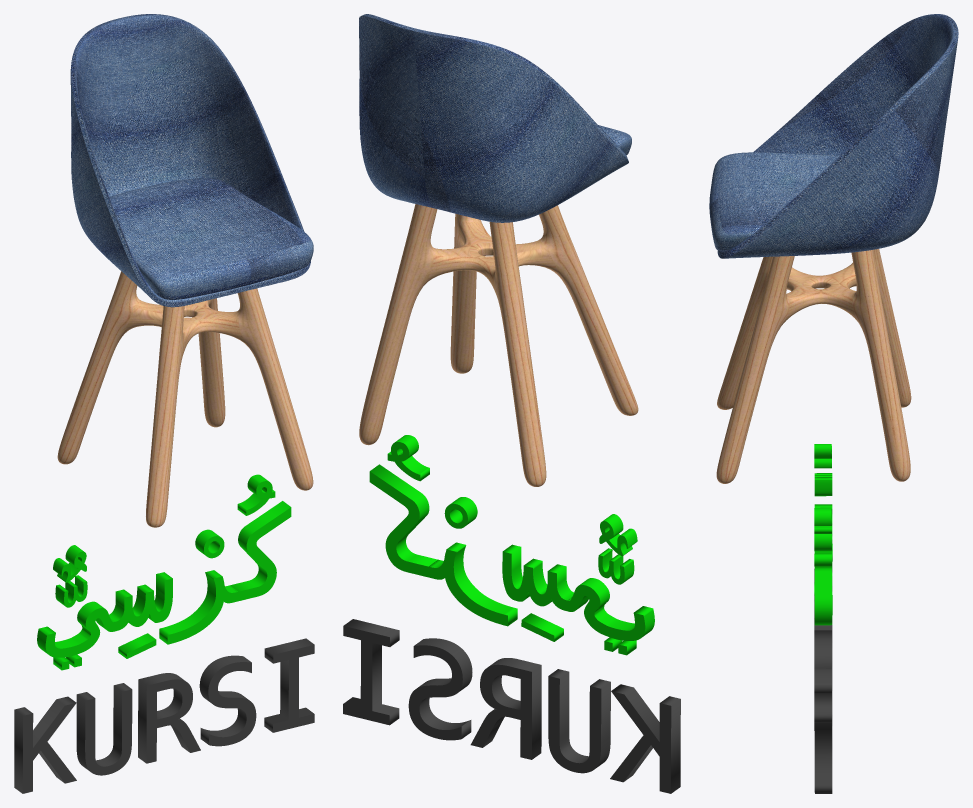
Rendered from Modern Chair of mine1.fbx.
The picture shows the model from 3 angles, left to right: view 1: azimuth 30°, elevation 25°; view 2: azimuth 150°, elevation 25°; view 3: azimuth 270°, elevation 25°; orthographic projection. The views are drawn at different scales.
Parts seen in each view (by area): view 1: Cube, Cube.002, Cube.003, Text.006, Text, Text.002, Text.004, Text.005, Text.003, Text.001; view 2: Cube, Cube.002, Text.006, Text, Text.002, Text.004, Text.005, Text.003, Text.001; view 3: Cube, Cube.002, Cube.003, Text.006, Text, Text.002, Text.004.
Boxes of the visible parts, bbox=[...] form: Cube: bbox=[70, 14, 310, 307]; Cube.002: bbox=[57, 271, 313, 527]; Cube.003: bbox=[109, 178, 313, 299]; Text.006: bbox=[14, 638, 314, 793]; Text: bbox=[37, 501, 291, 670]; Text.002: bbox=[237, 474, 275, 515]; Text.004: bbox=[53, 545, 86, 582]; Text.005: bbox=[55, 575, 87, 607]; Text.003: bbox=[195, 529, 224, 558]; Text.001: bbox=[118, 633, 156, 658]; Cube: bbox=[359, 14, 628, 222]; Cube.002: bbox=[359, 204, 638, 486]; Text.006: bbox=[343, 619, 680, 793]; Text: bbox=[369, 464, 654, 655]; Text.002: bbox=[387, 435, 429, 481]; Text.004: bbox=[599, 514, 637, 556]; Text.005: bbox=[598, 548, 634, 584]; Text.003: bbox=[444, 497, 477, 528]; Text.001: bbox=[521, 613, 563, 641]; Cube: bbox=[717, 14, 958, 258]; Cube.002: bbox=[716, 249, 911, 483]; Cube.003: bbox=[709, 152, 839, 250]; Text.006: bbox=[814, 569, 832, 793]; Text: bbox=[814, 504, 832, 625]; Text.002: bbox=[814, 507, 831, 533]; Text.004: bbox=[814, 444, 831, 468].
Bounding box in the file's own units: 392 × 881 × 284.
